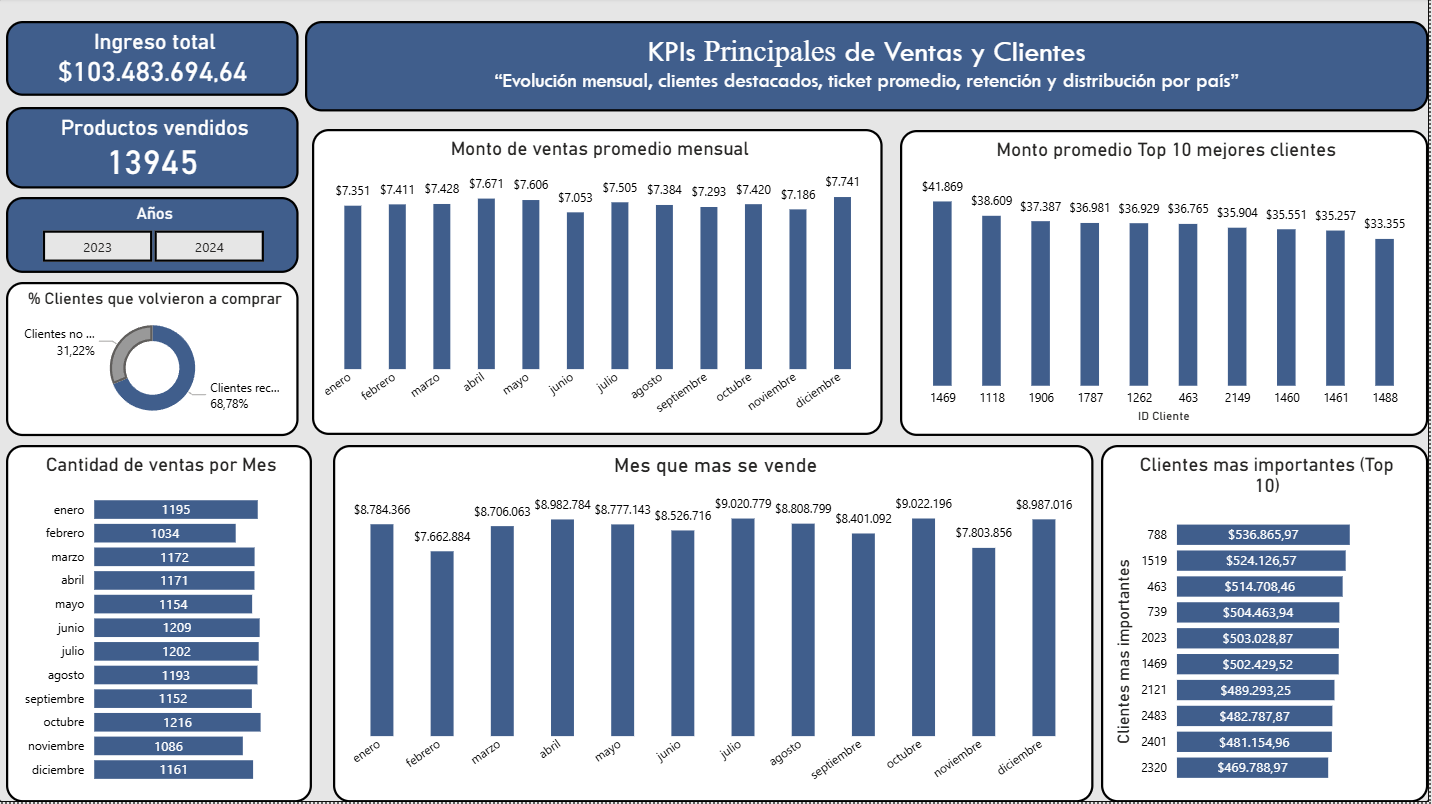

This screenshot's page, from the dashboard's own definition file:
{"tool":"powerbi","page":{"name":"KPIs principales","canvas":[1280,720],"ordinal":0},"visuals":[{"type":"clusteredColumnChart","title":"Monto de ventas promedio mensual","fields":{"Category":["Tabla_Ventas.Fecha compra.Variación.Jerarquía de fechas.Mes"],"Y":["Avg(Tabla_Ventas.Monto)"]},"box":[280.3,117.3,511.3,274],"z":0},{"type":"card","title":"Ingreso total","fields":{"Values":["Sum(Tabla_Ventas.Monto)"]},"box":[6.3,20.6,262.4,67.2],"z":1000},{"type":"card","title":"Productos vendidos","fields":{"Values":["CountNonNull(Tabla_Ventas.Cantidad)"]},"box":[6.3,97.6,262.4,72.5],"z":2000},{"type":"clusteredBarChart","title":"Cantidad de ventas por Mes","fields":{"Category":["Tabla_Ventas.Fecha compra.Variación.Jerarquía de fechas.Mes"],"Y":["CountNonNull(Tabla_Ventas.Cantidad)"]},"box":[6.3,400.3,274,319.7],"z":3000},{"type":"donutChart","title":"% Clientes que  volvieron a comprar","fields":{"Category":["Tabla3.Columna1"],"Y":["Sum(Tabla3.Cantidad)"]},"box":[6.3,254.3,262.4,137.9],"z":4000},{"type":"clusteredColumnChart","title":"    Monto promedio  Top 10 mejores clientes ","fields":{"Category":["Tabla_Ventas.ID Cliente"],"Y":["Avg(Tabla_Ventas.Monto)"]},"box":[806.9,118.2,472.8,274],"z":5000},{"type":"clusteredColumnChart","title":"Mes que mas se vende","fields":{"Category":["Tabla_Ventas.Fecha compra.Variación.Jerarquía de fechas.Mes"],"Y":["Sum(Tabla_Ventas.Monto)"]},"box":[299.1,400.3,681.5,319.7],"z":6000},{"type":"clusteredBarChart","title":"Clientes mas importantes (Top 10)","fields":{"Category":["Tabla_Ventas.ID Cliente"],"Y":["Sum(Tabla_Ventas.Monto)"]},"box":[986.9,400.3,292.8,319.7],"z":7000},{"type":"slicer","title":"Años","fields":{"Values":["Tabla_Ventas.Fecha compra.Variación.Jerarquía de fechas.Año"]},"box":[6.3,178.2,262.4,68.1],"z":8000},{"type":"textbox","box":[274,20.6,1005.7,81.5],"z":9000}]}

Visuals, with their boxes in screenshot pixels (x1, y1, x2, y2), scaled from the page's 1280x720 canvas onto the 1432x804 screenshot:
"Monto de ventas promedio mensual" clusteredColumnChart: (left=314, top=131, right=886, bottom=437)
"Ingreso total" card: (left=7, top=23, right=301, bottom=98)
"Productos vendidos" card: (left=7, top=109, right=301, bottom=190)
"Cantidad de ventas por Mes" clusteredBarChart: (left=7, top=447, right=314, bottom=803)
"% Clientes que  volvieron a comprar" donutChart: (left=7, top=284, right=301, bottom=438)
"    Monto promedio  Top 10 mejores clientes " clusteredColumnChart: (left=903, top=132, right=1431, bottom=438)
"Mes que mas se vende" clusteredColumnChart: (left=335, top=447, right=1097, bottom=803)
"Clientes mas importantes (Top 10)" clusteredBarChart: (left=1104, top=447, right=1431, bottom=803)
"Años" slicer: (left=7, top=199, right=301, bottom=275)
textbox: (left=307, top=23, right=1431, bottom=114)
